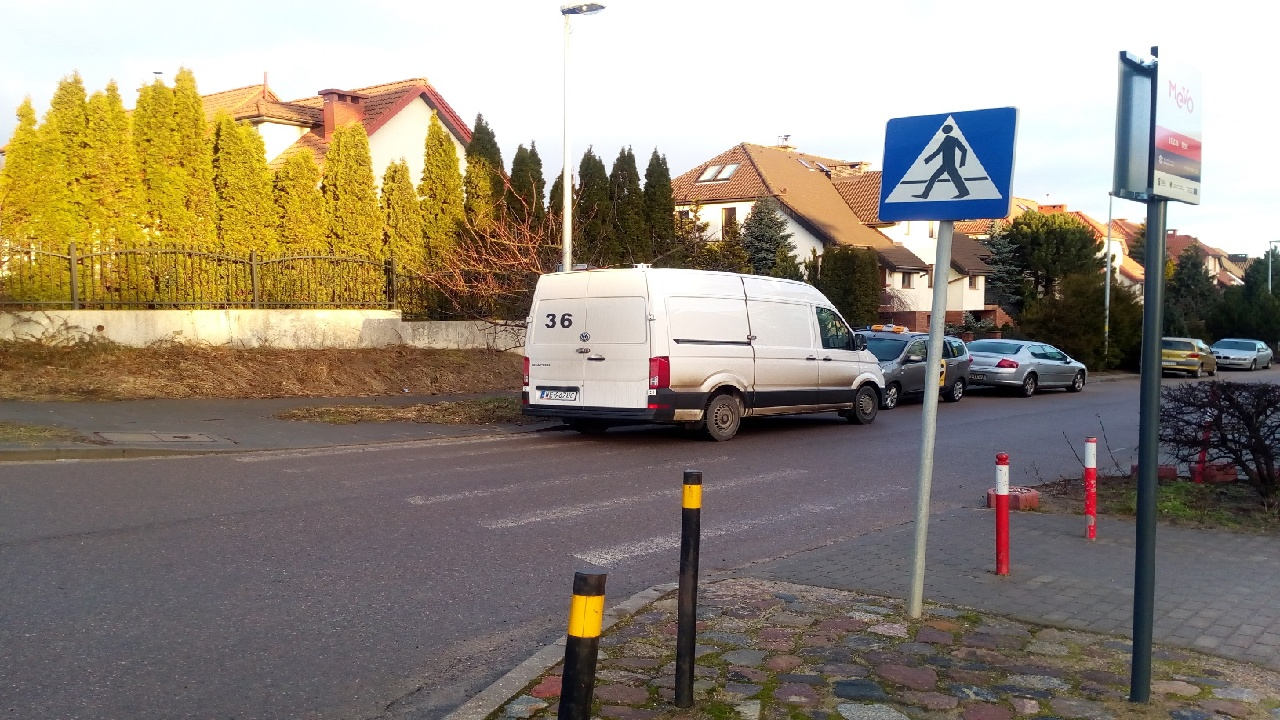D6: (878, 107, 1014, 219)
